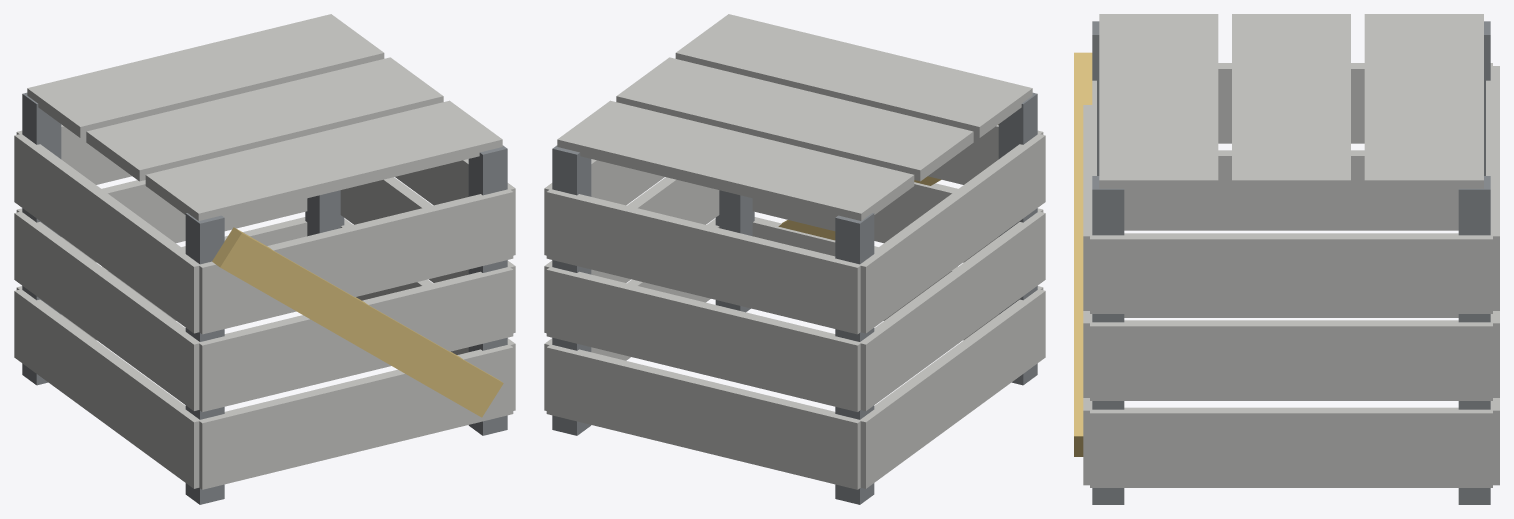
File: P_wooden_crate.fbx
3 renders of one model, left to right at view 1: azimuth 30°, elevation 25°; view 2: azimuth 150°, elevation 25°; view 3: azimuth 270°, elevation 25°, orthographic. The views are drawn at different scales.
Visible parts, largest first — view 1: P_wooden_crate; view 2: P_wooden_crate; view 3: P_wooden_crate.
Part boxes in pixels (x1,y1,x2,y2): P_wooden_crate: (14, 14, 515, 504); P_wooden_crate: (544, 14, 1045, 504); P_wooden_crate: (1074, 14, 1499, 504).
Bounding box in the file's own units: 0.91 × 0.78 × 0.93.
